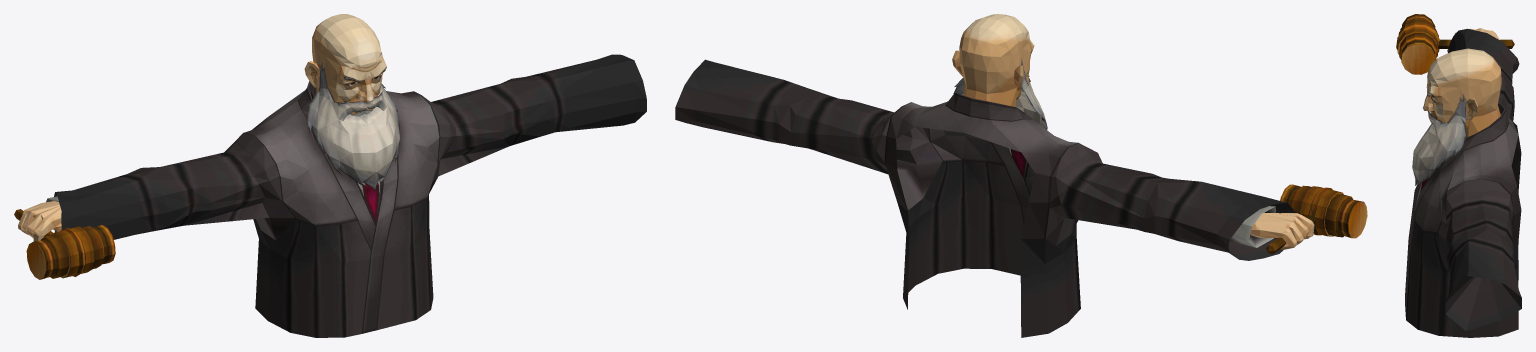
The model's file is chr101.obj.
The picture shows the model from 3 angles, left to right: view 1: azimuth 30°, elevation 25°; view 2: azimuth 150°, elevation 25°; view 3: azimuth 270°, elevation 25°; orthographic projection. The views are drawn at different scales.
Parts seen in each view (by area): view 1: Object004, Object003, Object005, Object007; view 2: Object003, Object004, Object005; view 3: Object003, Object004, Object005, Object007.
Boxes of the visible parts, x1,y1,x2,y2 form: Object004: (243,81,440,337); Object003: (54,54,646,240); Object005: (14,14,399,279); Object007: (327,51,386,116); Object003: (675,59,1294,260); Object004: (884,93,1080,337); Object005: (952,14,1367,254); Object003: (1438,28,1521,330); Object004: (1405,104,1521,337); Object005: (1396,14,1514,185); Object007: (1423,66,1455,123).
Bounding box in the file's own units: 2.53 × 1.1 × 0.4945.
5 materials, 5 textured.
